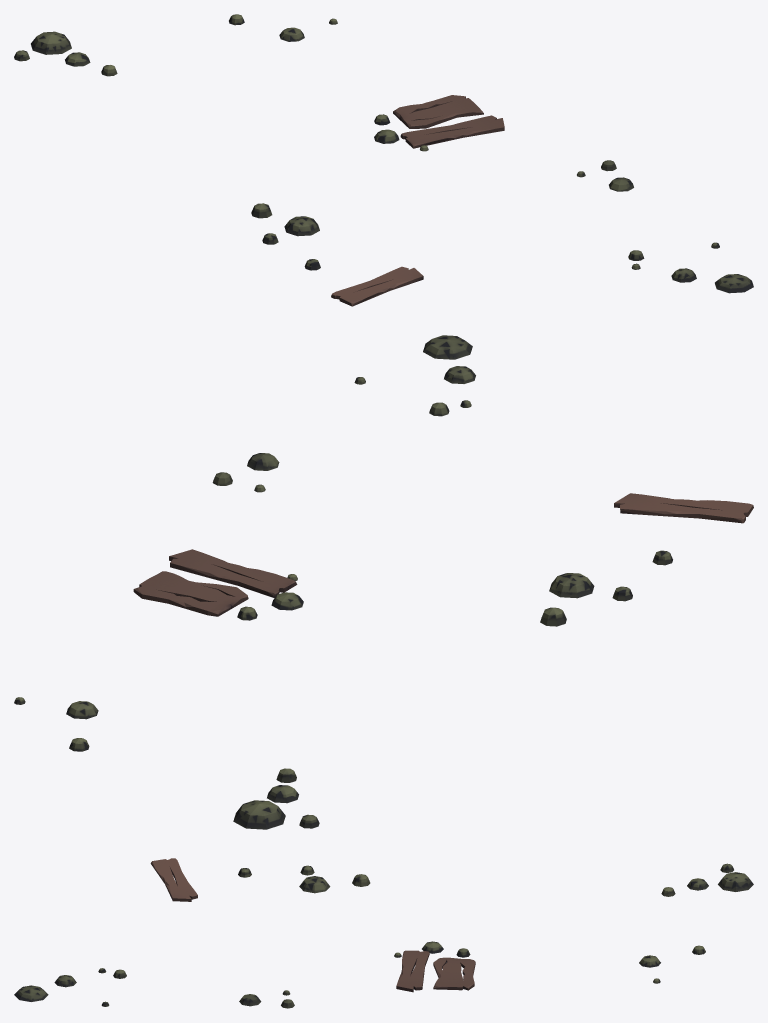
File: Wood_01.FBX
The picture shows the model from 3 angles, top to bottom: view 1: azimuth 30°, elevation 25°; view 2: azimuth 150°, elevation 25°; view 3: azimuth 270°, elevation 25°; orthographic projection. The views are drawn at different scales.
Parts seen in each view (by area): view 1: Wood_01; view 2: Wood_01; view 3: Wood_01.
Boxes of the visible parts, x1,y1,x2,y2 form: Wood_01: [14, 14, 753, 306]; Wood_01: [14, 335, 753, 829]; Wood_01: [14, 858, 753, 1008].
Size of the model in its own units: 10.51 by 0.4329 by 22.6.
